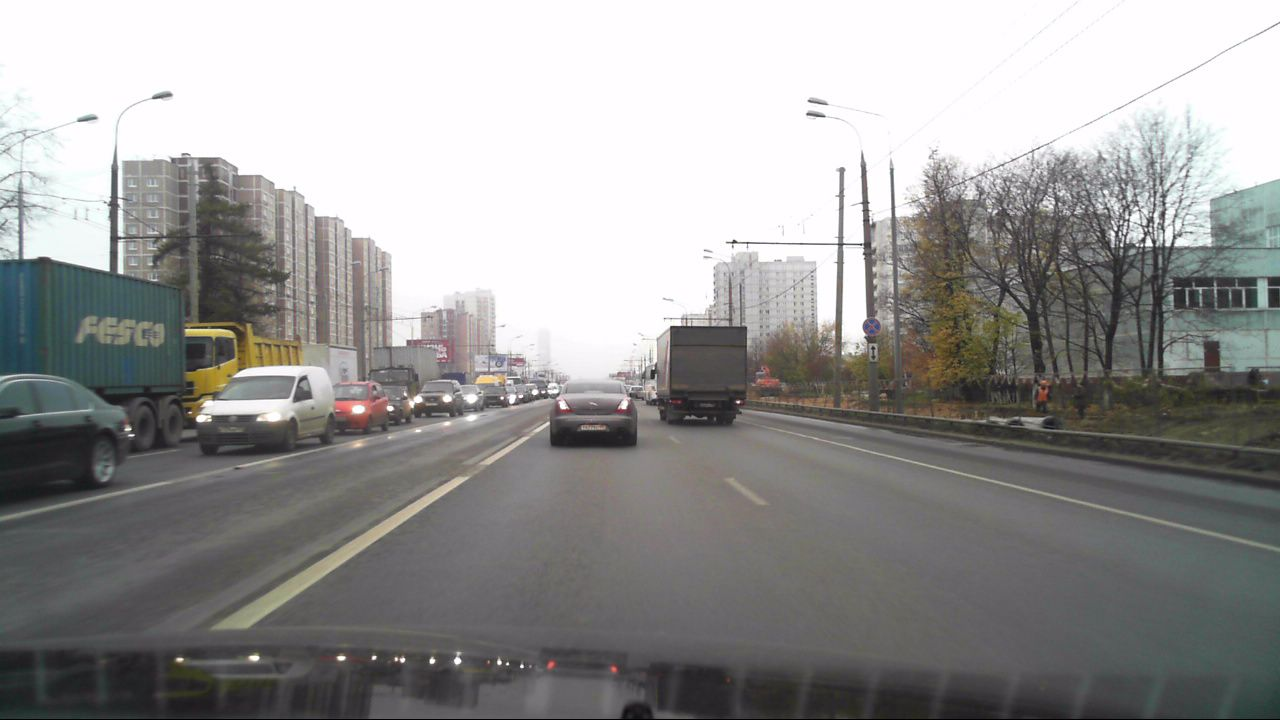No Parking: (861, 317, 881, 336)
